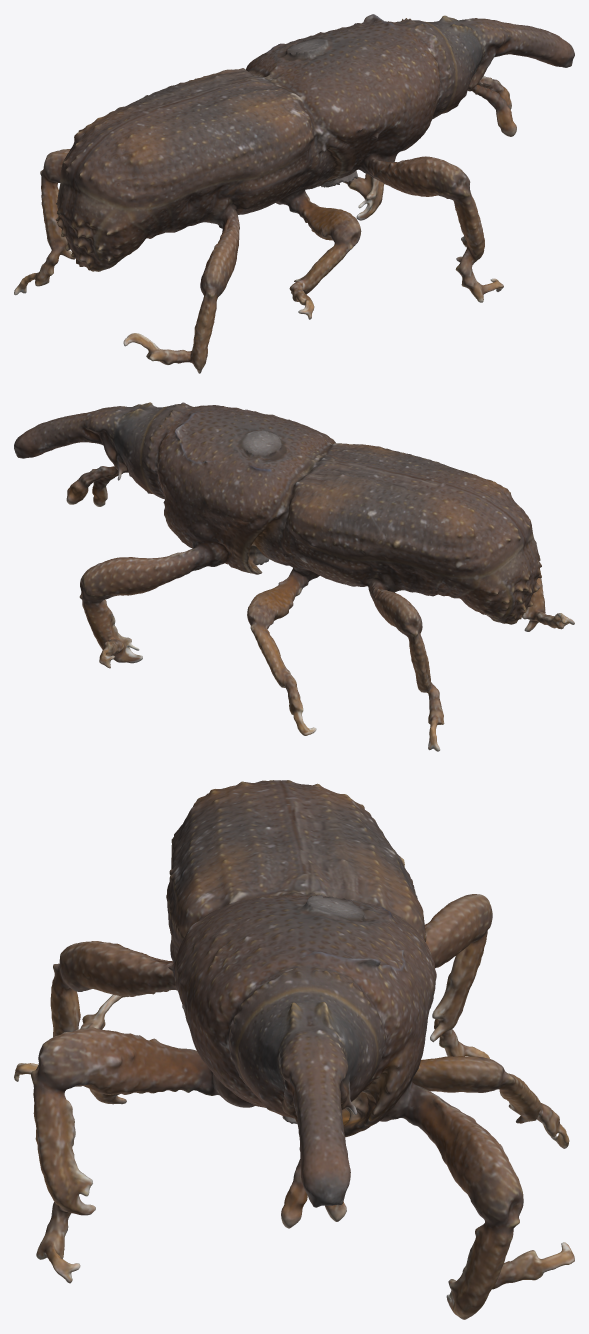
The model's file is sitophilus_oryzae.glb.
3 renders of one model, top to bottom at view 1: azimuth 30°, elevation 25°; view 2: azimuth 150°, elevation 25°; view 3: azimuth 270°, elevation 25°, orthographic. The views are drawn at different scales.
Parts seen in each view (by area): view 1: Object_2, Object_3, Object_4; view 2: Object_2, Object_3, Object_4; view 3: Object_2, Object_3, Object_4.
Part boxes in pixels (bbox=[...]): Object_2: bbox=[36, 15, 574, 369]; Object_3: bbox=[14, 14, 574, 373]; Object_4: bbox=[14, 15, 574, 366]; Object_2: bbox=[14, 402, 574, 719]; Object_3: bbox=[14, 403, 570, 750]; Object_4: bbox=[14, 404, 574, 751]; Object_2: bbox=[15, 780, 574, 1319]; Object_3: bbox=[20, 780, 574, 1313]; Object_4: bbox=[14, 782, 570, 1317].
Bounding box in the file's own units: 3.94 × 1.69 × 2.44.
Materials: 1 (1 with a texture image).
